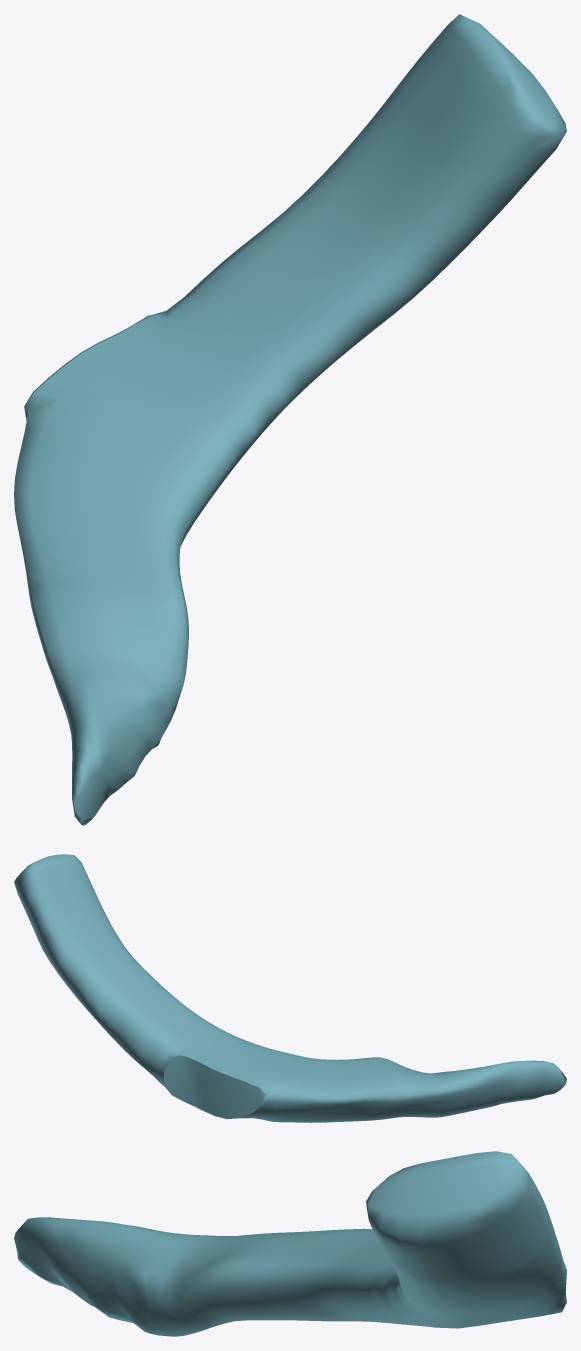
3 views of the same model, one above another, from view 1: azimuth 30°, elevation 25°; view 2: azimuth 150°, elevation 25°; view 3: azimuth 270°, elevation 25° (orthographic). The views are drawn at different scales.
Visible parts, largest first — view 1: 左侧第八肋软骨; view 2: 左侧第八肋软骨; view 3: 左侧第八肋软骨.
Boxes of the visible parts, box(x1,y1,x2,y2) form: 左侧第八肋软骨: box(14, 14, 566, 825); 左侧第八肋软骨: box(14, 854, 566, 1122); 左侧第八肋软骨: box(14, 1151, 566, 1336).
Size of the model in its own units: 0.1201 by 0.0739 by 0.0918.
